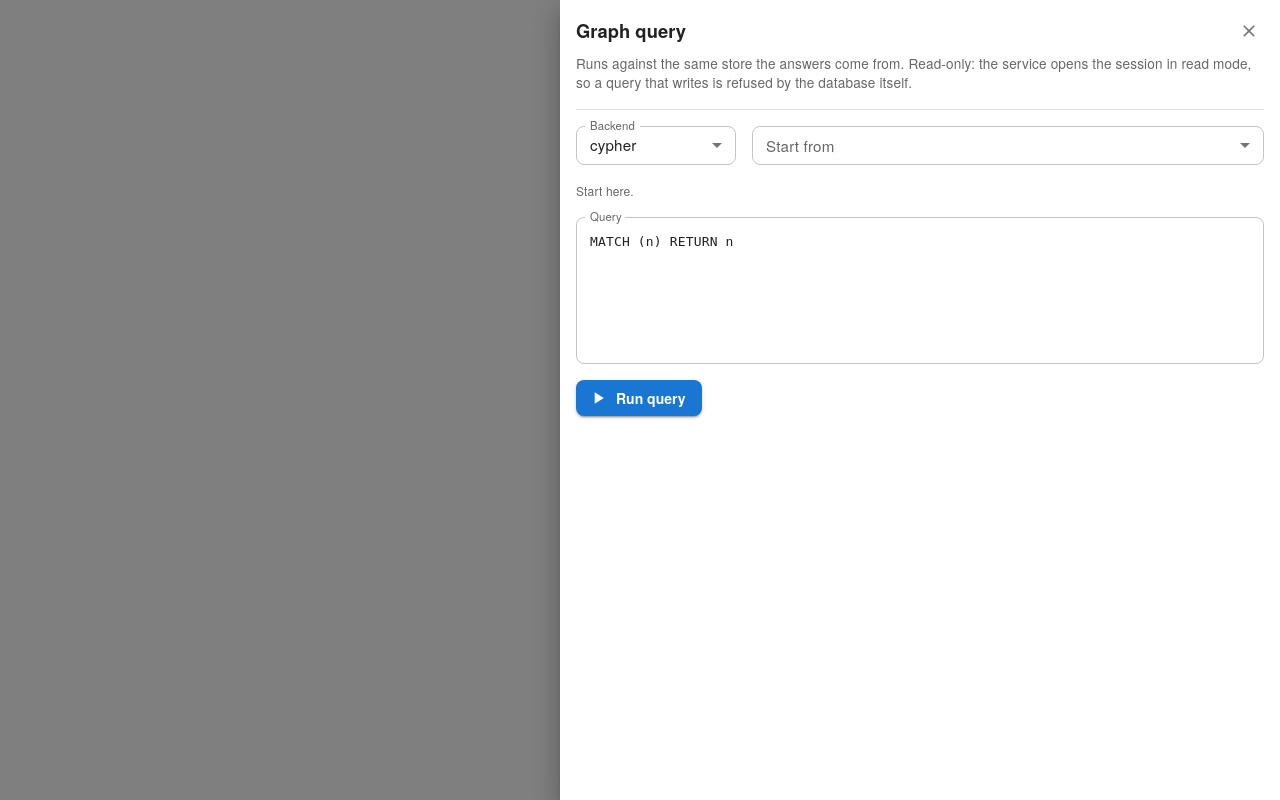
Test case: GraphQueryConsole › says which backends cannot be queried rather than letting them be chosen
This screenshot has width=1280, height=800.
Click the dropdown named "Backend" at coordinates (613, 145), box [590,134,636,155]
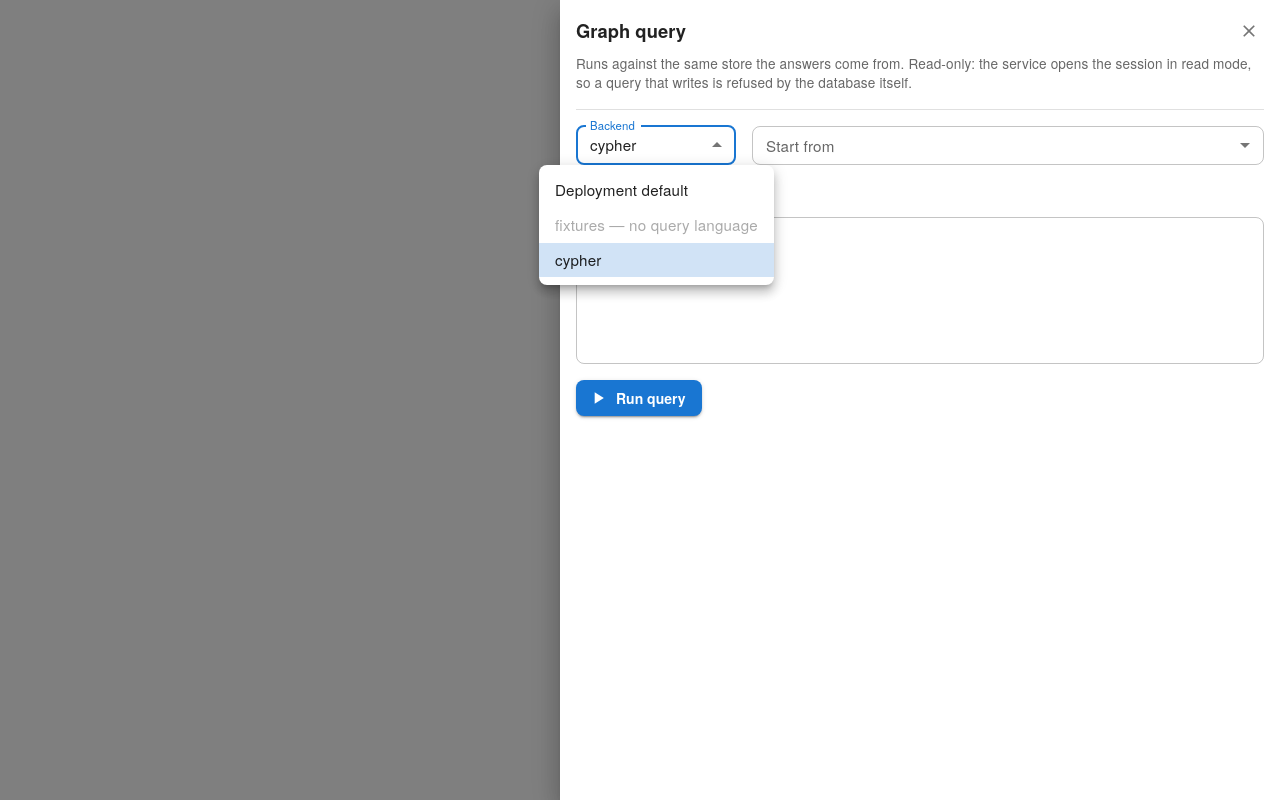
Check: the option "fixtures — no query language" is shown, box [539,208,774,243]
